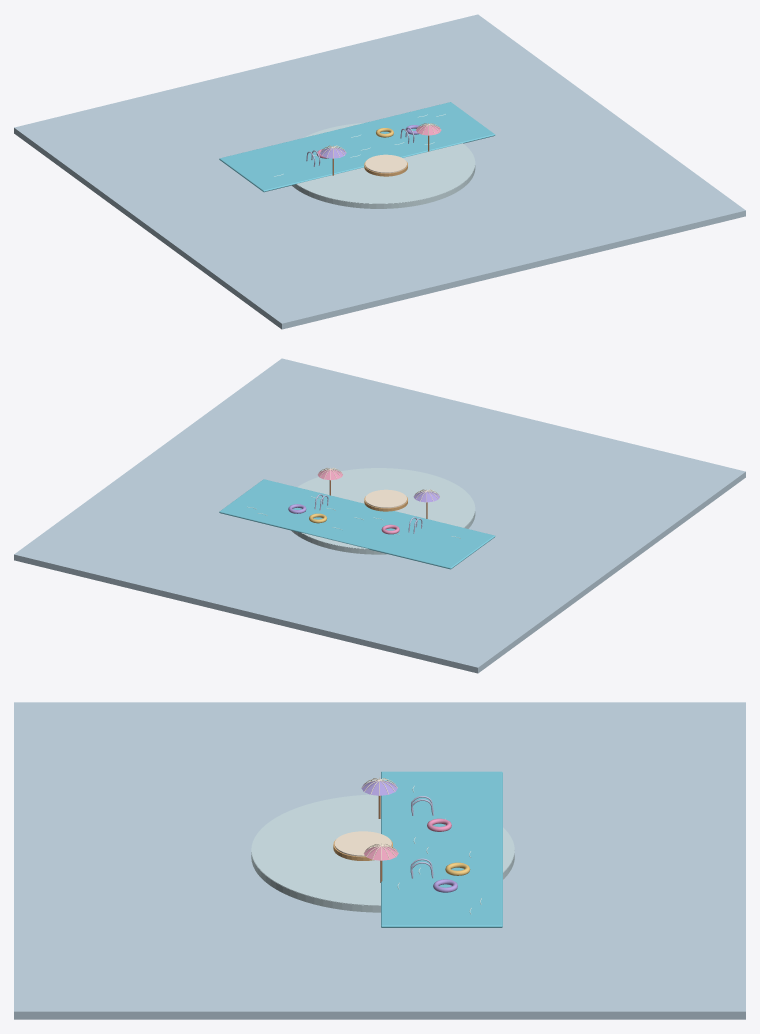
File: piscina.glb
The picture shows the model from 3 angles, top to bottom: view 1: azimuth 30°, elevation 25°; view 2: azimuth 150°, elevation 25°; view 3: azimuth 270°, elevation 25°; orthographic projection. The views are drawn at different scales.
Visible parts, largest first — view 1: Horizon floor.010, Water.001, Diorama piping.010, Diorama base.010, Look pedestal.010; view 2: Horizon floor.010, Water.001, Diorama piping.010, Look pedestal.010, Diorama base.010; view 3: Horizon floor.010, Water.001, Diorama piping.010, Diorama base.010, Look pedestal.010.
Part boxes in pixels (x1,y1,x2,y2): Horizon floor.010: (14,14,745,329); Water.001: (219,102,495,192); Diorama piping.010: (296,123,474,203); Diorama base.010: (292,158,475,208); Look pedestal.010: (365,154,406,173); Horizon floor.010: (14,358,745,673); Water.001: (219,479,495,569); Diorama piping.010: (297,468,474,549); Look pedestal.010: (365,489,406,508); Diorama base.010: (291,501,475,554); Horizon floor.010: (14,702,745,1019); Water.001: (381,771,502,927); Diorama piping.010: (251,794,514,905); Diorama base.010: (251,838,514,912); Look pedestal.010: (334,831,391,856).
Bounding box in the file's own units: 24 × 1.95 × 24.
